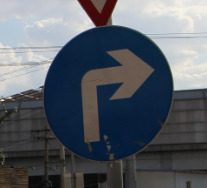right_turn: (43, 26, 174, 161)
